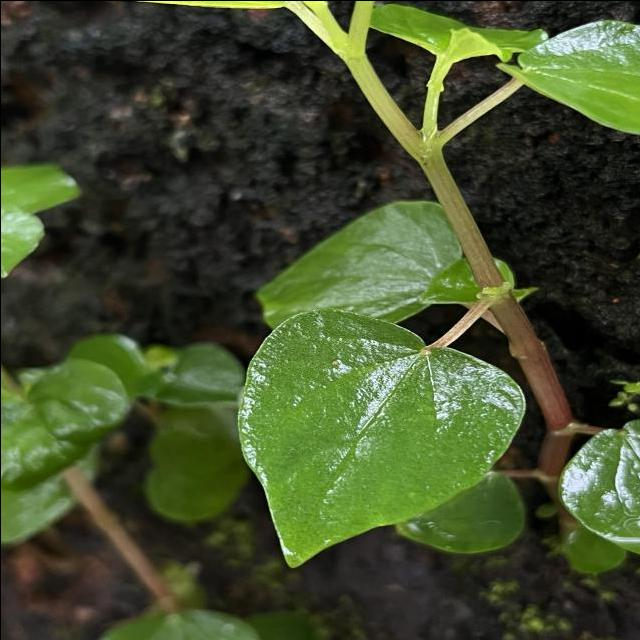Peperomia pellucida: (229, 305, 526, 573)
